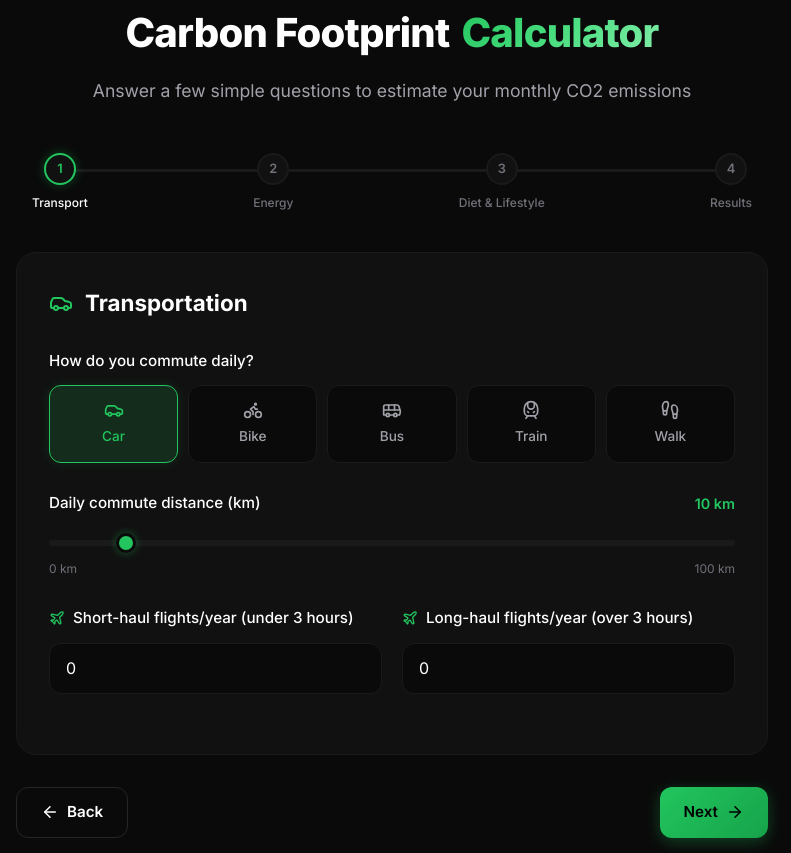
Test case: Calculator Component › renders transport step by default and allows navigation
The width and height of the screenshot is (791, 853).
Expected: the heading "Transportation" is shown, [49,289,248,316]
Expected: the slider labelled "Daily commute distance (km) 10 km" is shown, [49,540,735,546]
Next step navigation
Click the button "Next".
click(714, 812)  # box [660,787,768,838]
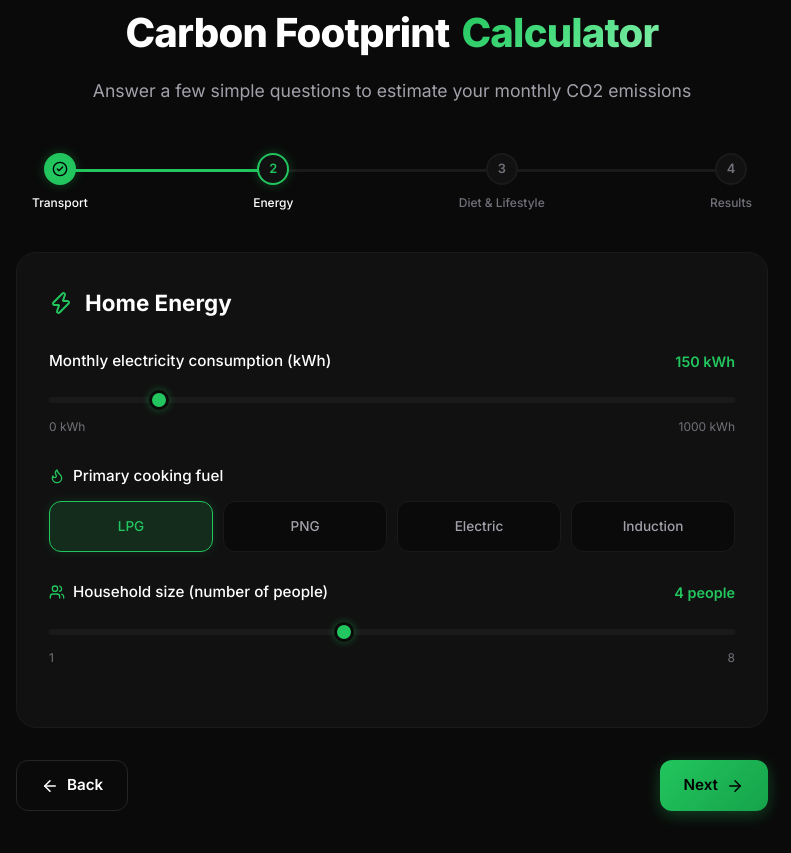
Expected: the heading "Home Energy" is shown, [49,289,232,316]
Expected: the slider labelled "Monthly electricity consumption (kWh) 150 kWh" is shown, [49,398,735,404]
Back step navigation
Click the button "Back".
click(72, 786)  # box [16,760,128,811]
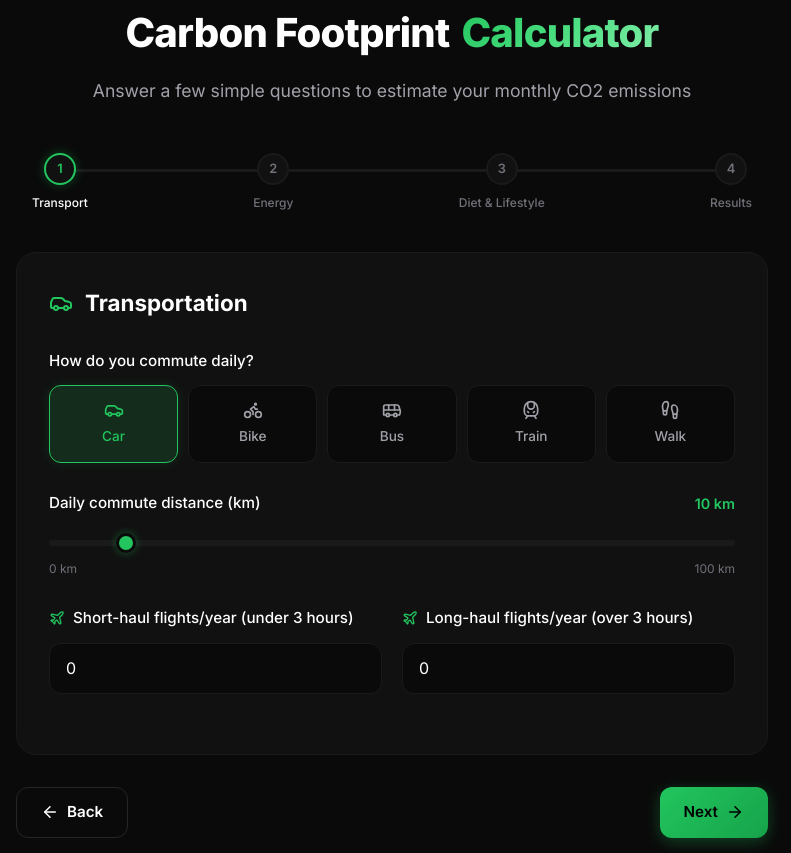
Expected: the heading "Transportation" is shown, [49,289,248,316]
